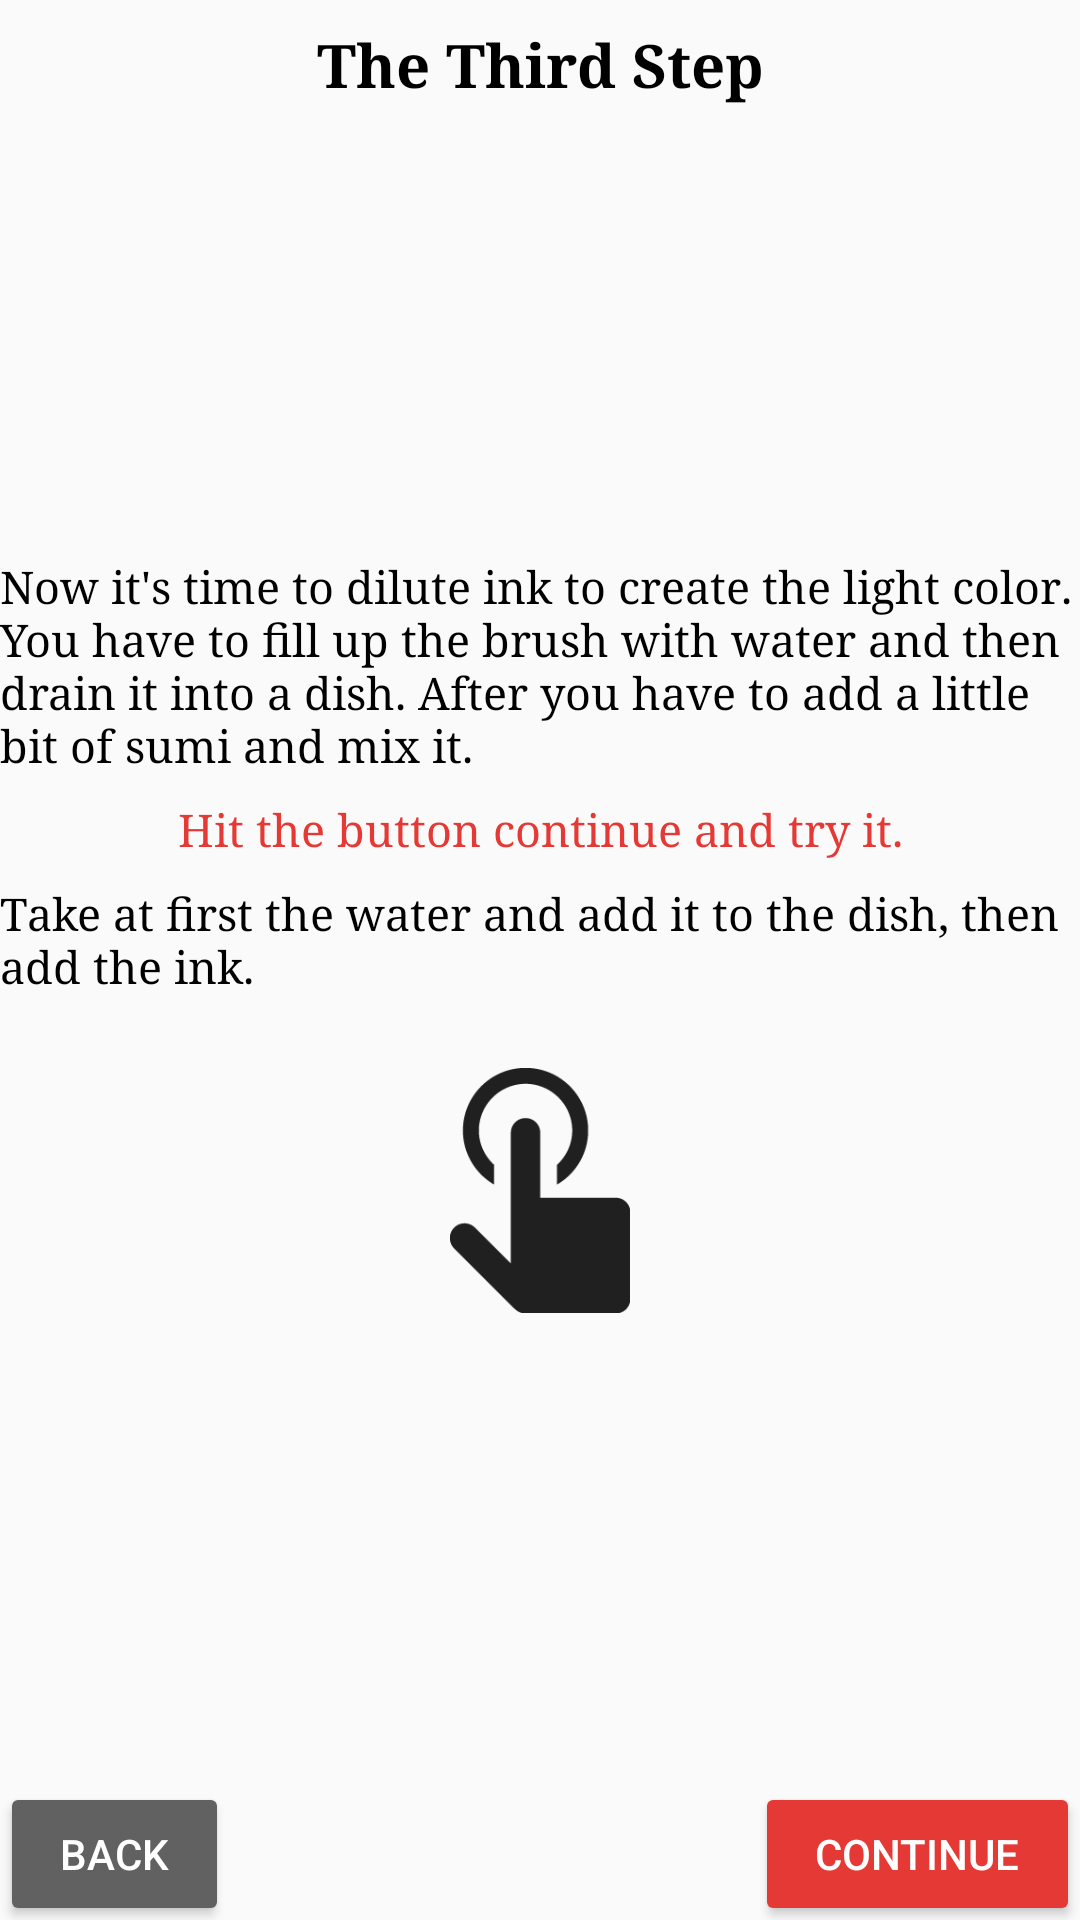

Where icons sit on this 1080*1920 app screen, as [x1,y1,x2,y2]:
tap: [450,1068,630,1313]
